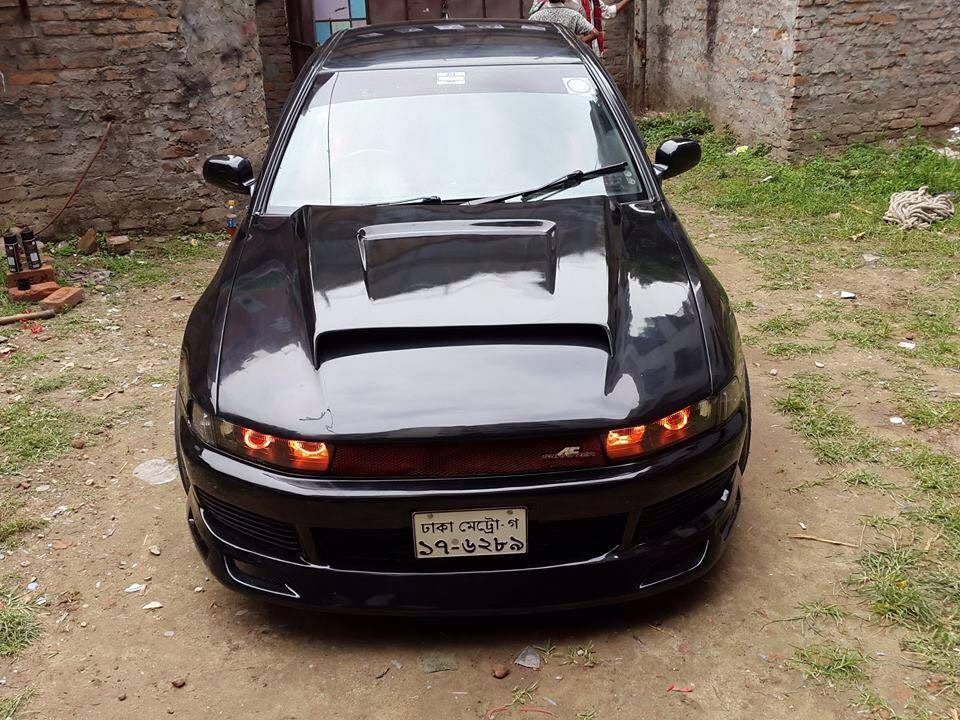registration_plate: (411, 505, 528, 559)
